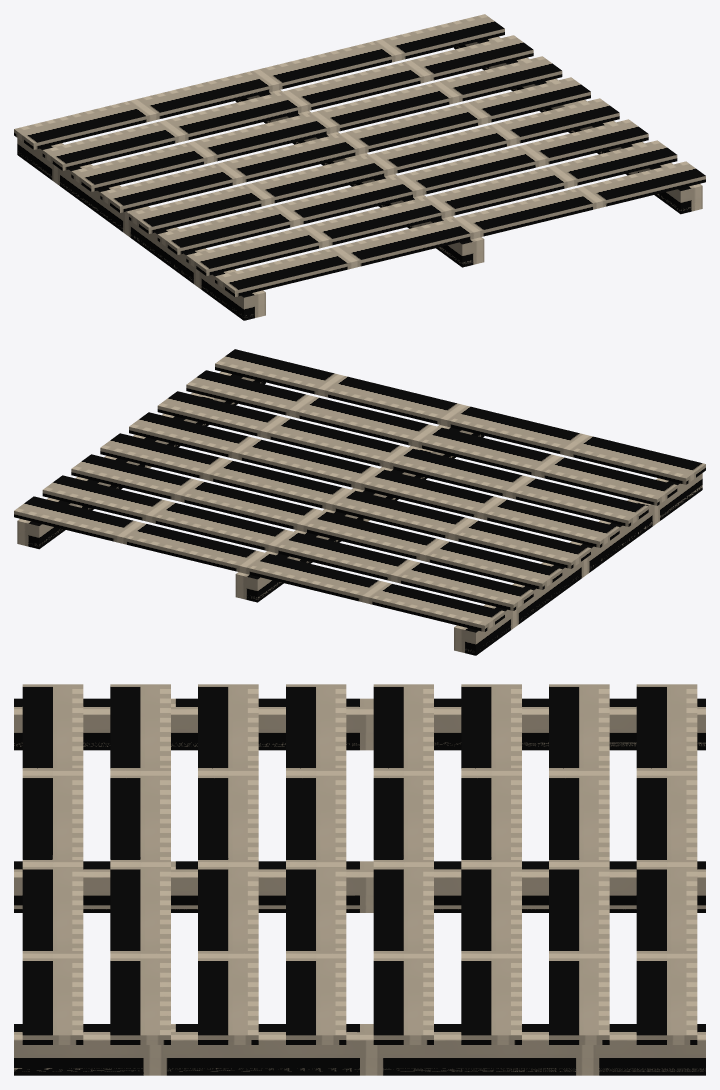
Rendered from pallet.glb.
The picture shows the model from 3 angles, top to bottom: view 1: azimuth 30°, elevation 25°; view 2: azimuth 150°, elevation 25°; view 3: azimuth 270°, elevation 25°; orthographic projection. The views are drawn at different scales.
Visible parts, largest first — view 1: pallet; view 2: pallet; view 3: pallet.
Part boxes in pixels (x1,y1,x2,y2): pallet: (14, 14, 705, 320); pallet: (14, 349, 705, 655); pallet: (14, 684, 705, 1075).
Bounding box in the file's own units: 1.92 × 0.115 × 1.6.
Materials: 1 (1 with a texture image).
